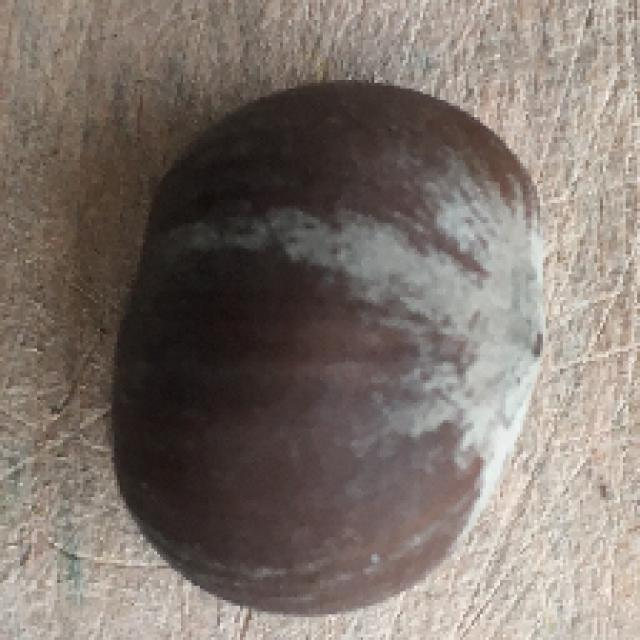DamagedHazelnut: (110, 81, 551, 615)
